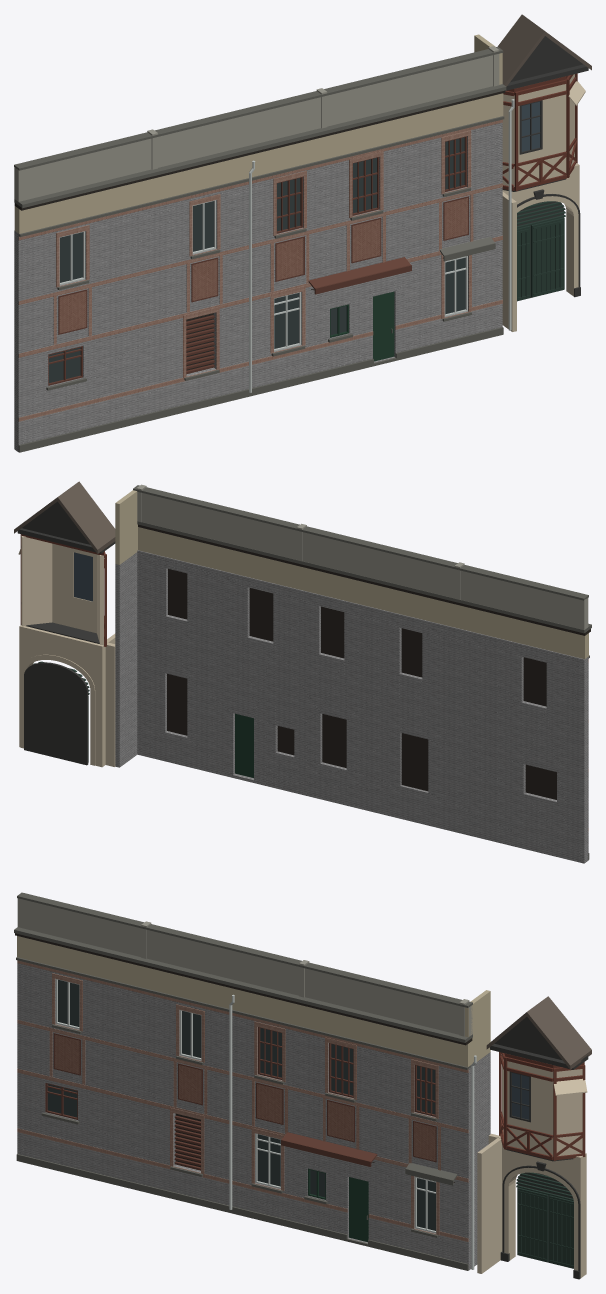
The model's file is lod-source.glb.
3 renders of one model, top to bottom at view 1: azimuth 30°, elevation 25°; view 2: azimuth 150°, elevation 25°; view 3: azimuth 330°, elevation 25°, orthographic. The views are drawn at different scales.
Visible parts, largest first — view 1: 延庆路121号住宅砖砌街面与木筋凸窗; view 2: 延庆路121号住宅砖砌街面与木筋凸窗; view 3: 延庆路121号住宅砖砌街面与木筋凸窗.
Boxes of the visible parts, bbox=[...] form: 延庆路121号住宅砖砌街面与木筋凸窗: bbox=[14, 14, 591, 452]; 延庆路121号住宅砖砌街面与木筋凸窗: bbox=[14, 481, 591, 863]; 延庆路121号住宅砖砌街面与木筋凸窗: bbox=[14, 892, 591, 1279].
Bounding box in the file's own units: 17.75 × 8.23 × 2.1.
Materials: 17 (3 with a texture image).
